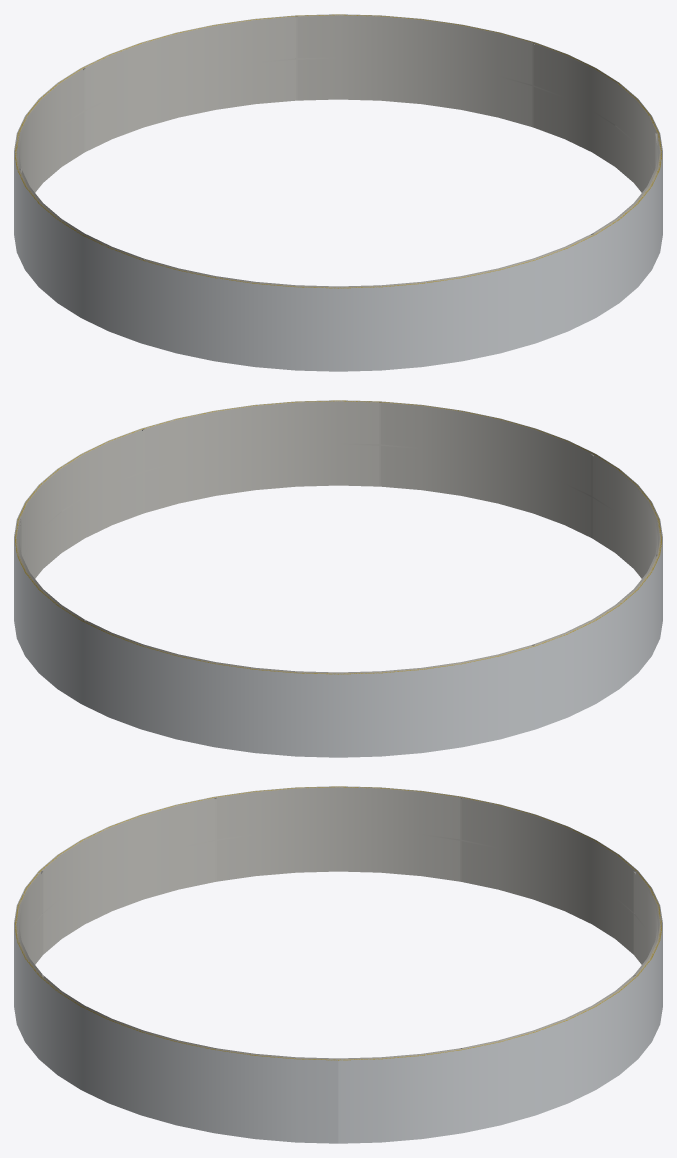
File: silo-wall-W-7-TYP.glb
The picture shows the model from 3 angles, top to bottom: view 1: azimuth 30°, elevation 25°; view 2: azimuth 150°, elevation 25°; view 3: azimuth 270°, elevation 25°; orthographic projection.
Parts seen in each view (by area): view 1: topcoat__topcoat_shell, existing__concrete_2_hi, existing__concrete_2_lo, existing__concrete_3_hi, existing__concrete_3_lo, existing__concrete_1_hi, existing__concrete_1_lo, existing__concrete_4_hi, existing__concrete_4_lo, primer__primer_shell, flex__flex_shell, existing__concrete_lift; view 2: topcoat__topcoat_shell, existing__concrete_0_hi, existing__concrete_0_lo, existing__concrete_7_hi, existing__concrete_7_lo, existing__concrete_1_hi, existing__concrete_1_lo, existing__concrete_6_hi, existing__concrete_6_lo, primer__primer_shell, flex__flex_shell, existing__concrete_lift; view 3: topcoat__topcoat_shell, existing__concrete_5_hi, existing__concrete_5_lo, existing__concrete_6_hi, existing__concrete_4_hi, existing__concrete_4_lo, existing__concrete_6_lo, primer__primer_shell, flex__flex_shell, existing__concrete_lift, existing__concrete_3_hi, existing__concrete_7_hi (+2 smaller).
Boxes of the visible parts, <box> form: topcoat__topcoat_shell: <box>14,14,662,371</box>; existing__concrete_2_hi: <box>297,15,532,84</box>; existing__concrete_2_lo: <box>297,58,532,126</box>; existing__concrete_3_hi: <box>84,16,295,109</box>; existing__concrete_3_lo: <box>85,60,295,151</box>; existing__concrete_1_hi: <box>533,44,656,171</box>; existing__concrete_1_lo: <box>533,87,653,192</box>; existing__concrete_4_hi: <box>17,69,84,171</box>; existing__concrete_4_lo: <box>23,112,84,192</box>; primer__primer_shell: <box>16,15,660,287</box>; flex__flex_shell: <box>15,14,661,288</box>; existing__concrete_lift: <box>23,57,653,171</box>; topcoat__topcoat_shell: <box>14,400,662,757</box>; existing__concrete_0_hi: <box>144,401,379,470</box>; existing__concrete_0_lo: <box>144,444,379,512</box>; existing__concrete_7_hi: <box>381,402,592,495</box>; existing__concrete_7_lo: <box>381,446,591,537</box>; existing__concrete_1_hi: <box>20,430,143,557</box>; existing__concrete_1_lo: <box>23,473,143,578</box>; existing__concrete_6_hi: <box>592,455,659,557</box>; existing__concrete_6_lo: <box>592,498,653,578</box>; primer__primer_shell: <box>16,401,660,673</box>; flex__flex_shell: <box>15,400,661,674</box>; existing__concrete_lift: <box>23,443,653,557</box>; topcoat__topcoat_shell: <box>14,786,662,1143</box>; existing__concrete_5_hi: <box>216,787,460,839</box>; existing__concrete_5_lo: <box>217,830,459,881</box>; existing__concrete_6_hi: <box>42,798,215,911</box>; existing__concrete_4_hi: <box>461,798,634,911</box>; existing__concrete_4_lo: <box>461,841,633,953</box>; existing__concrete_6_lo: <box>43,841,215,953</box>; primer__primer_shell: <box>16,787,660,1059</box>; flex__flex_shell: <box>15,786,661,1060</box>; existing__concrete_lift: <box>23,829,653,943</box>; existing__concrete_3_hi: <box>634,872,659,975</box>; existing__concrete_7_hi: <box>17,871,42,975</box>.
Bounding box in the file's own units: 8.61 × 1.22 × 8.61.
